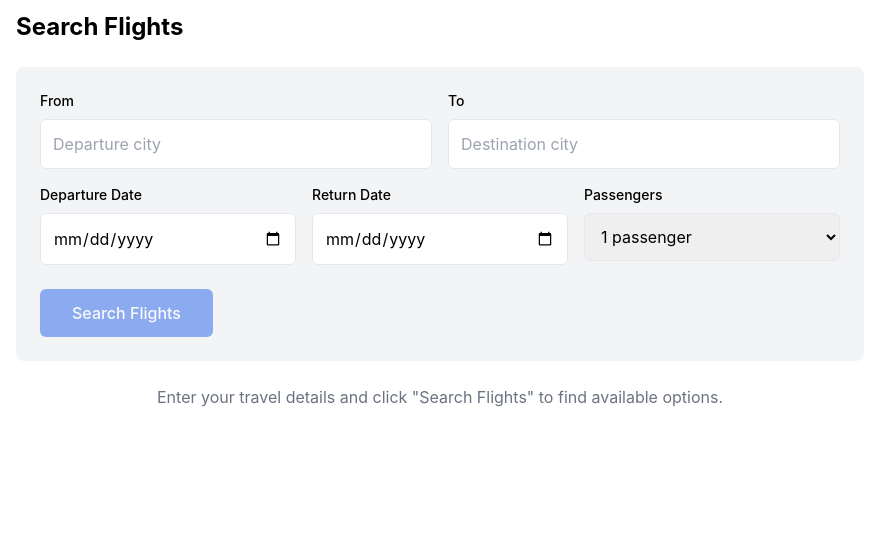
Scenario: FlightSearchComponent - TypeScript Runtime Error Tests › Component Rendering Runtime Tests › should handle async search operation without runtime errors
The image size is (881, 552).
In the field with placeholder "Departure city": (236, 144) [40,119,432,169], type "NYC"
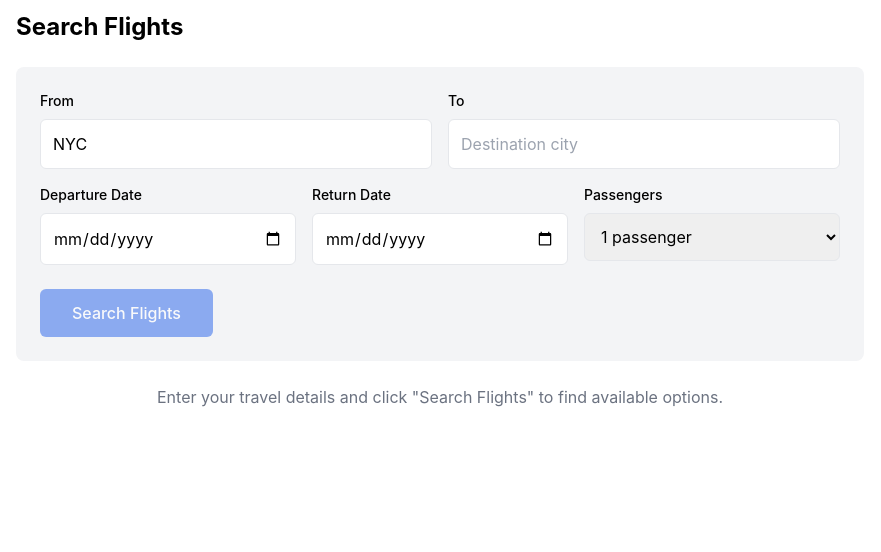
In the field with placeholder "Destination city": (644, 144) [448,119,840,169], type "LAX"
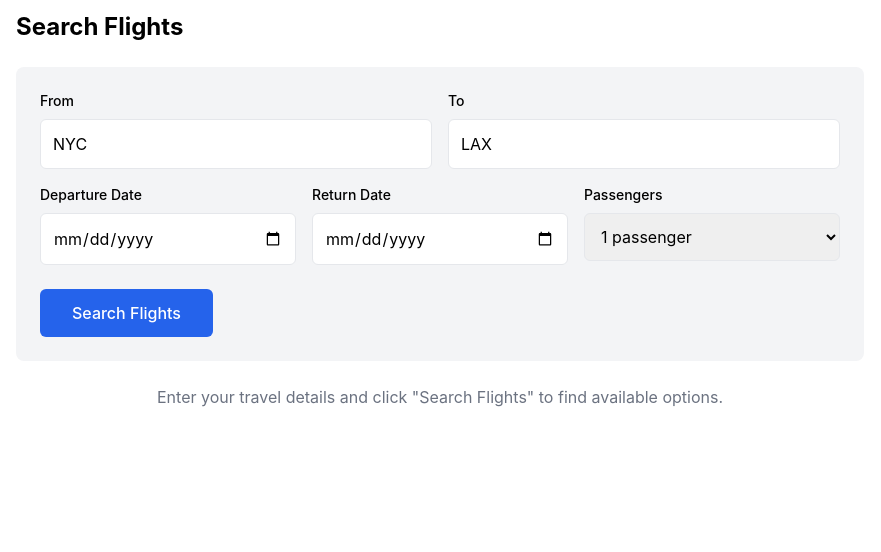
// Trigger search (async operation)
Click the button "Search Flights": (126, 313) [40,289,213,337]
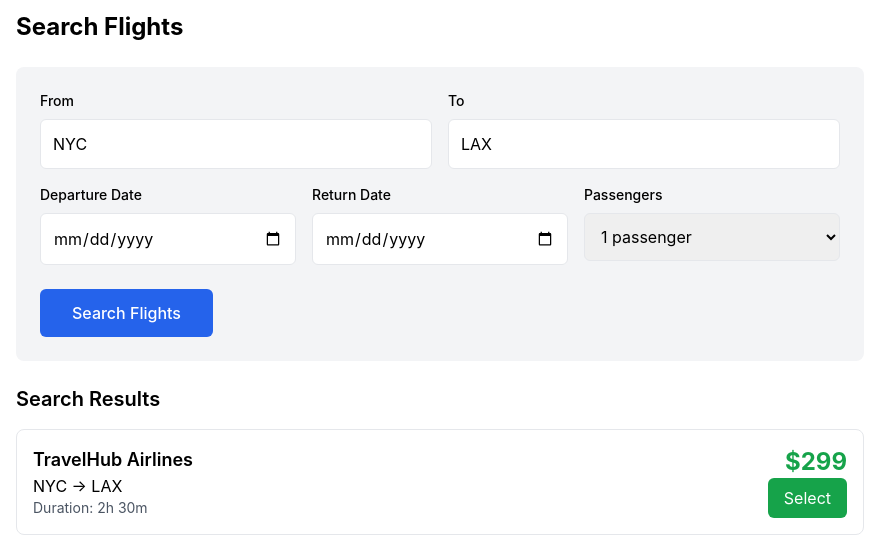
Result: the heading "Search Results" is shown at [16,387,160,411]
